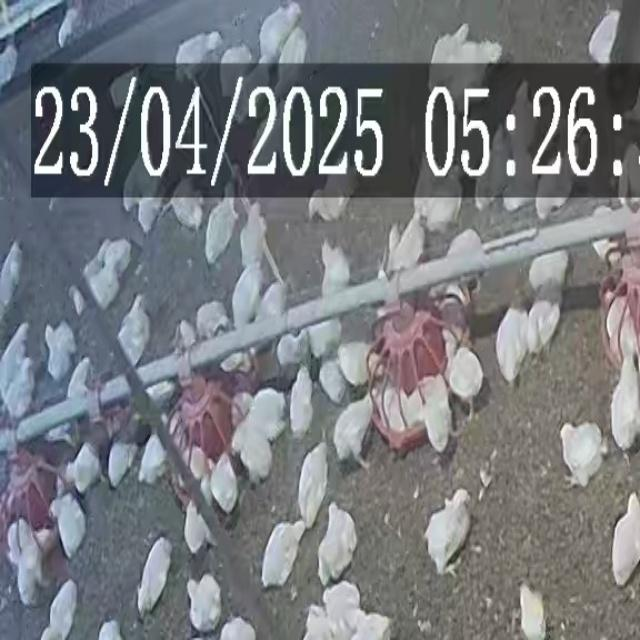chicken: (423, 25, 502, 101), (423, 489, 472, 576), (316, 502, 357, 586), (331, 396, 376, 471), (259, 520, 306, 589), (609, 352, 640, 456), (258, 1, 304, 70), (238, 387, 288, 450), (417, 162, 463, 227), (469, 130, 507, 208), (136, 538, 172, 616), (560, 424, 603, 489), (296, 445, 330, 527), (611, 491, 640, 586), (534, 154, 577, 218), (494, 306, 528, 385), (115, 296, 152, 368), (385, 212, 426, 276), (445, 345, 485, 410), (308, 171, 357, 224), (185, 471, 217, 552), (498, 145, 536, 213), (218, 44, 257, 110), (11, 520, 43, 600), (173, 31, 225, 78), (204, 195, 238, 265), (185, 571, 223, 633), (229, 264, 264, 331), (0, 318, 30, 396), (440, 228, 486, 278), (238, 198, 269, 272), (116, 154, 158, 208), (318, 237, 352, 302), (526, 247, 571, 295), (424, 374, 451, 454), (42, 582, 79, 639), (586, 11, 625, 65), (526, 297, 562, 354), (323, 583, 362, 635), (43, 320, 76, 381), (56, 494, 86, 560), (85, 258, 123, 310), (0, 239, 24, 321), (232, 433, 270, 482), (7, 361, 35, 427), (288, 366, 314, 436), (306, 316, 343, 363), (435, 297, 465, 354), (505, 83, 535, 140), (375, 391, 416, 432), (62, 447, 101, 489), (518, 582, 546, 640), (98, 237, 134, 282), (101, 435, 136, 481), (257, 280, 287, 332), (318, 357, 350, 405), (140, 435, 167, 490), (341, 345, 381, 382), (194, 300, 230, 341), (276, 329, 308, 373), (65, 356, 93, 405), (212, 451, 234, 512), (170, 192, 204, 230), (351, 611, 395, 640), (617, 302, 637, 363), (180, 447, 212, 483), (216, 616, 258, 640), (7, 521, 26, 571), (144, 380, 174, 407), (136, 202, 160, 235), (198, 469, 215, 513), (89, 618, 123, 640), (303, 607, 325, 640), (177, 319, 197, 352)
